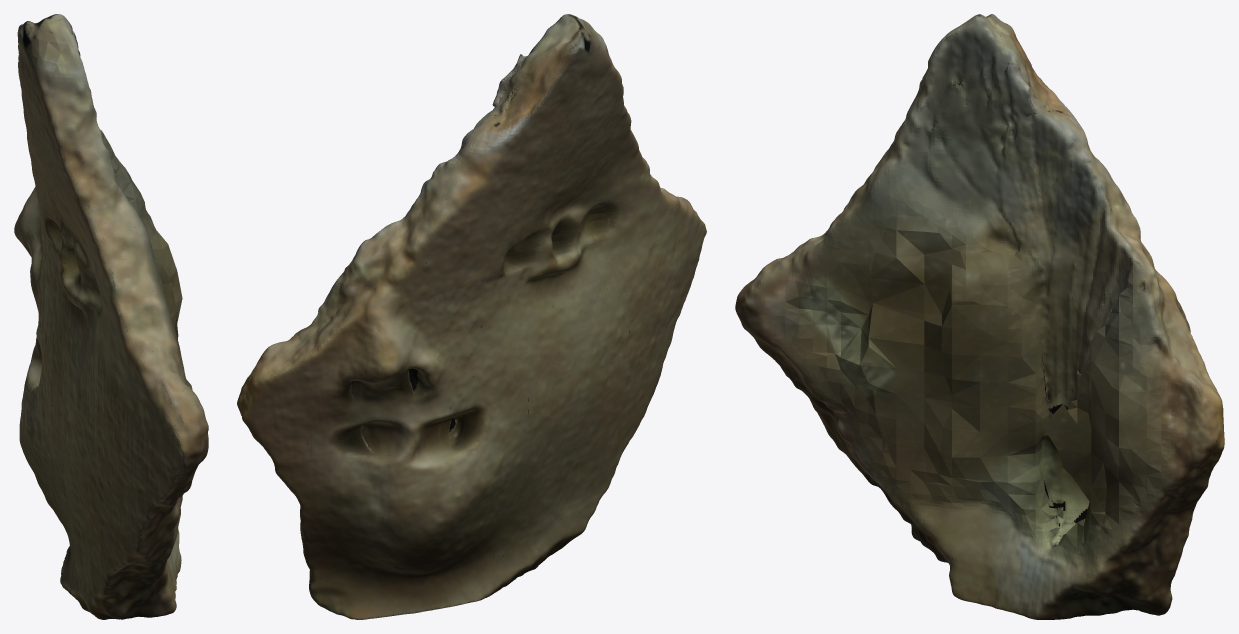
The model's file is Artifact-F_Gallinazo_Face.fbx.
3 views of the same model, side by side, from view 1: azimuth 30°, elevation 25°; view 2: azimuth 150°, elevation 25°; view 3: azimuth 270°, elevation 25° (orthographic). The views are drawn at different scales.
Parts seen in each view (by area): view 1: F_Gallinazo_Face; view 2: F_Gallinazo_Face; view 3: F_Gallinazo_Face.
Boxes of the visible parts, bbox=[...] form: F_Gallinazo_Face: bbox=[14, 14, 208, 619]; F_Gallinazo_Face: bbox=[237, 14, 706, 619]; F_Gallinazo_Face: bbox=[735, 14, 1224, 619].
Size of the model in its own units: 4134 by 9333 by 7712.
1 material, 1 textured.
